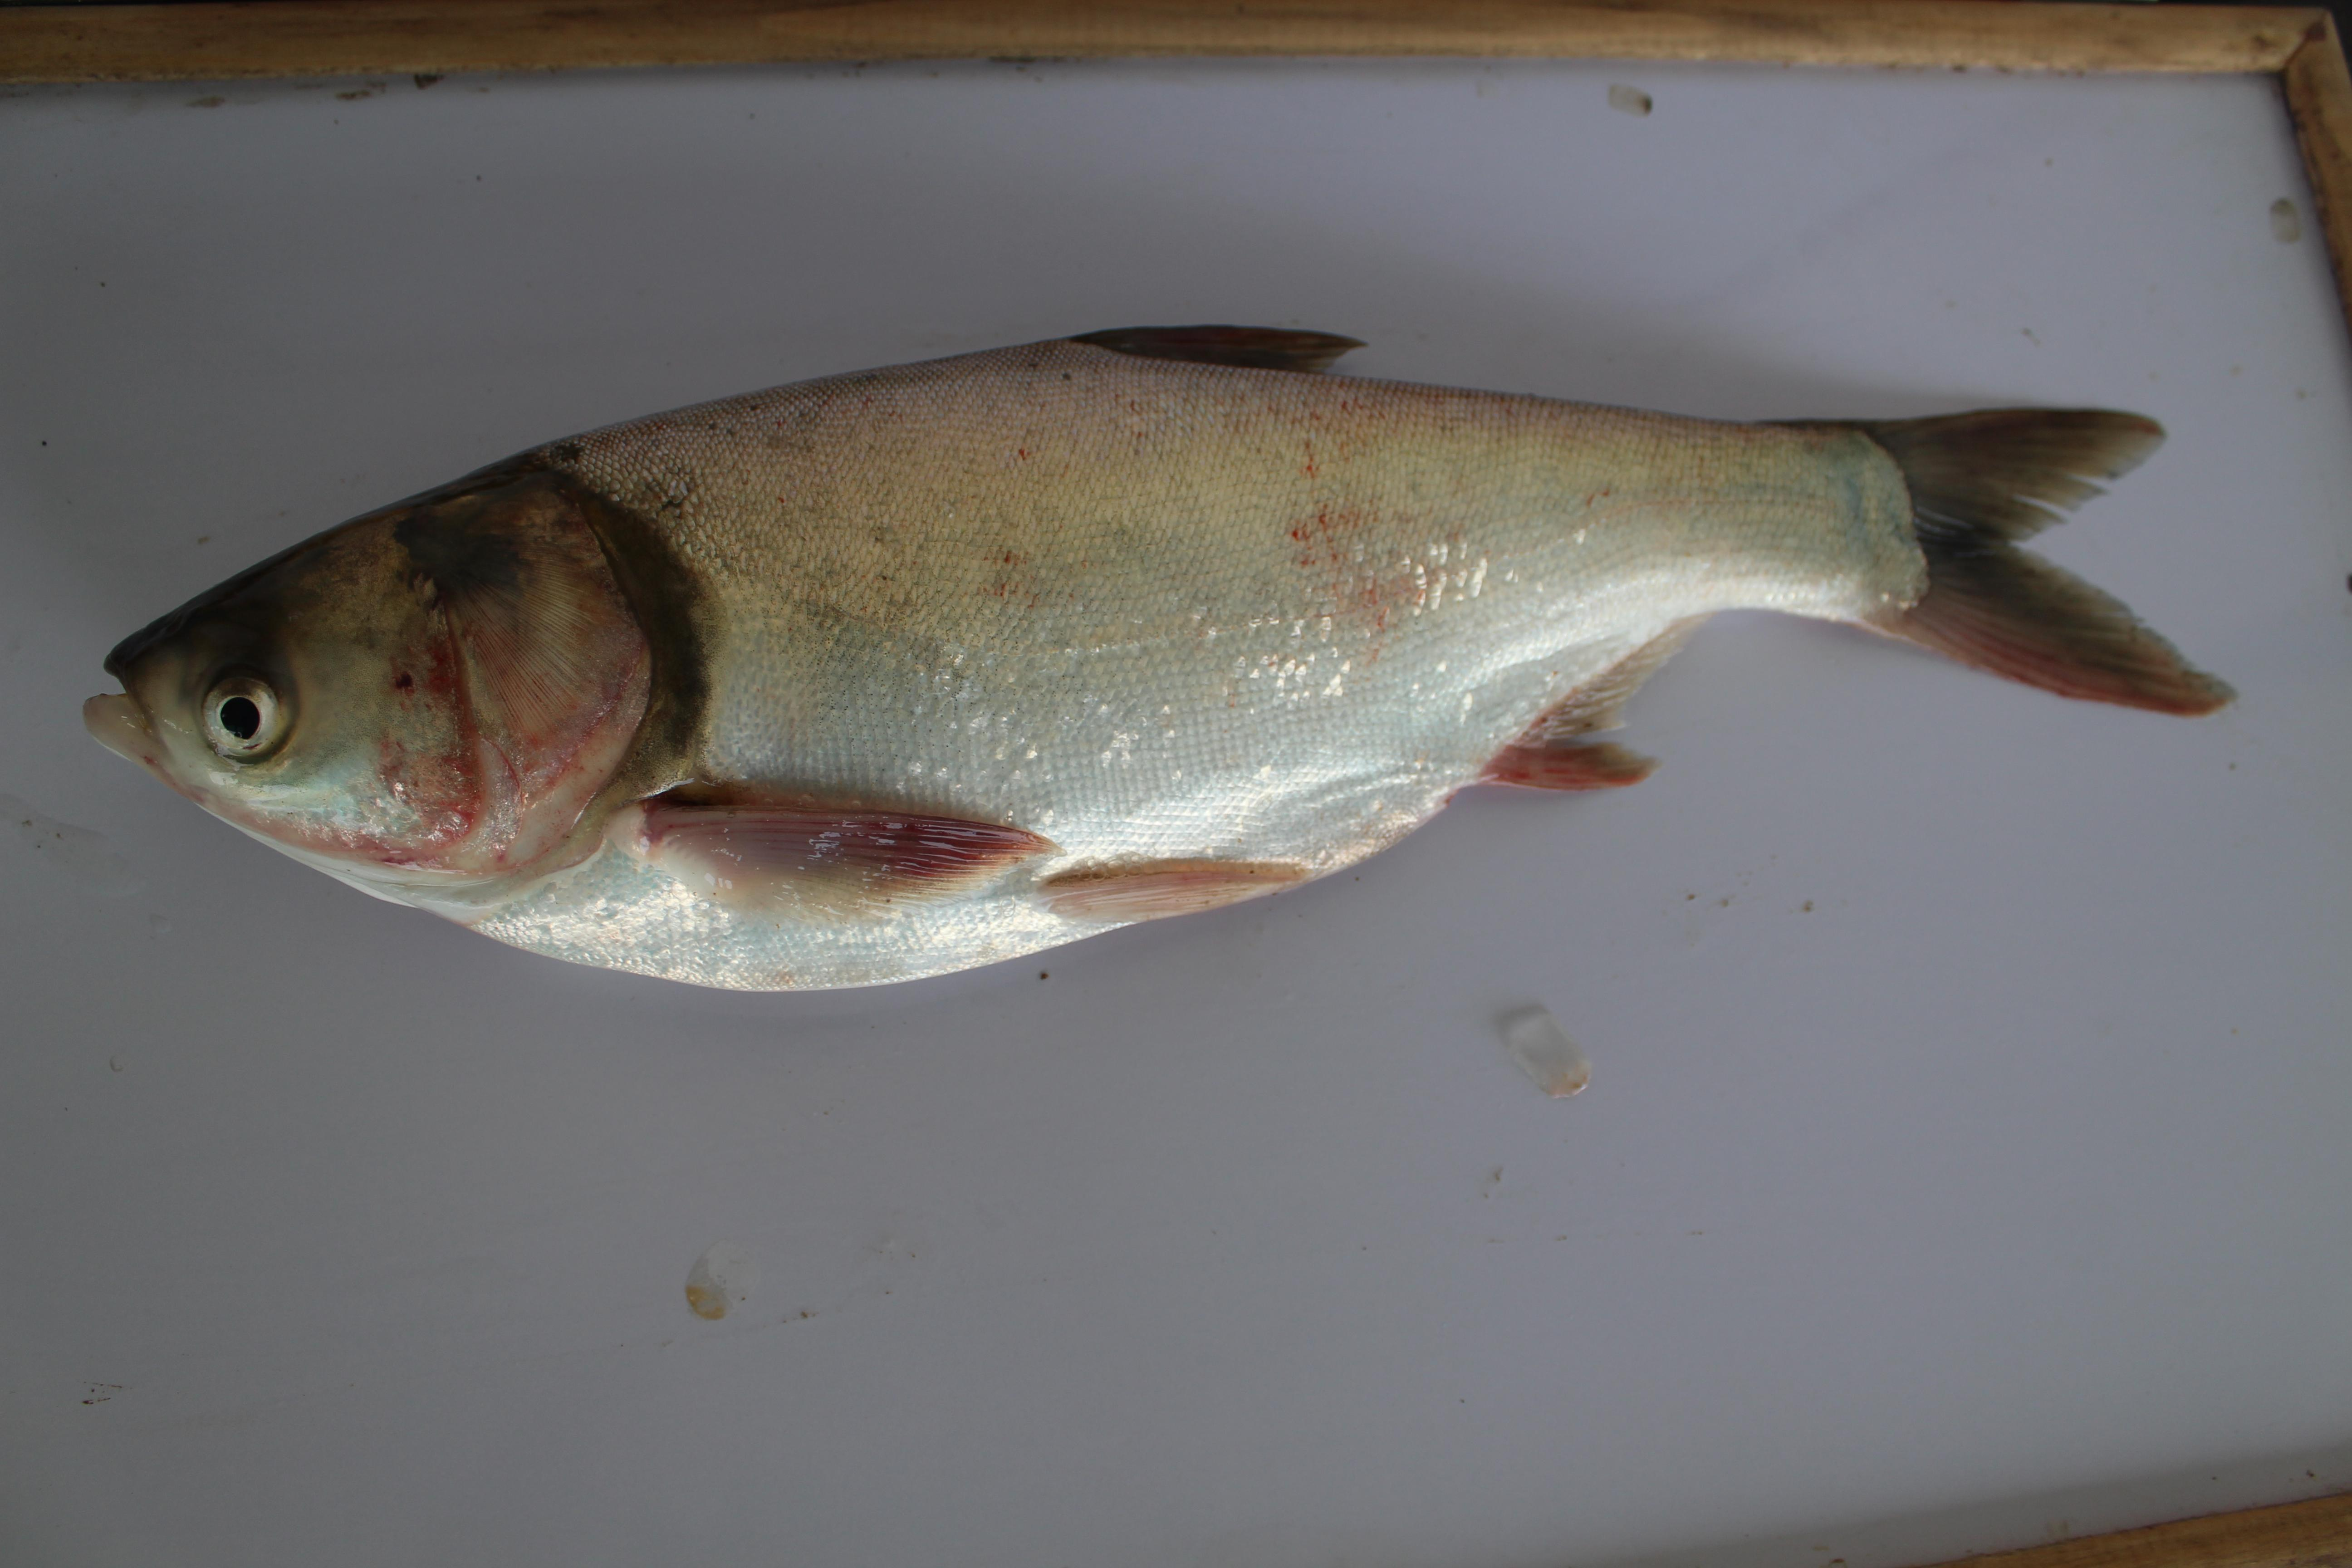Silver Carp: (93, 299, 2247, 1003)
